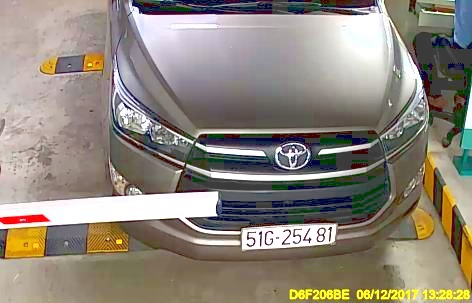plate: (239, 221, 337, 251)
